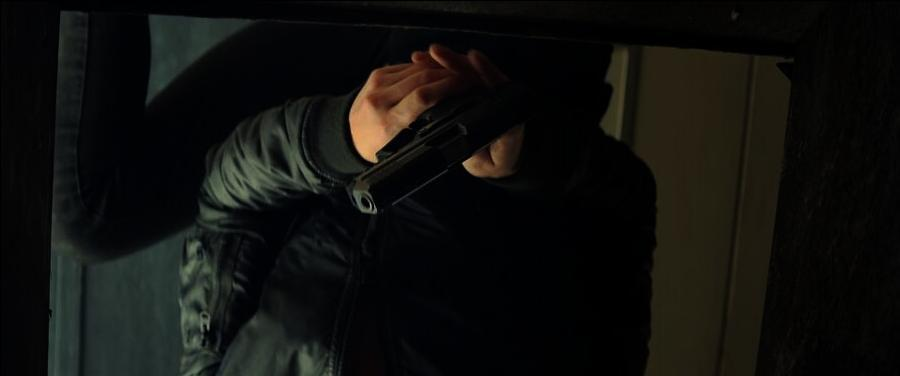gun: (342, 77, 556, 217)
